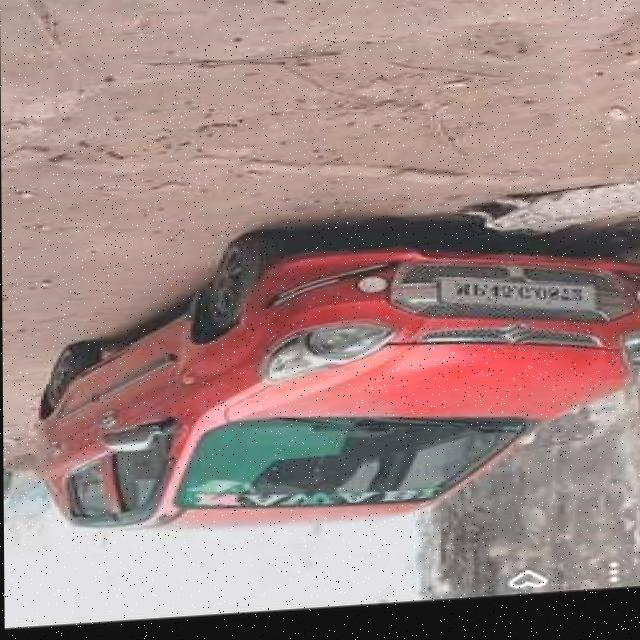plate: (435, 277, 602, 329)
